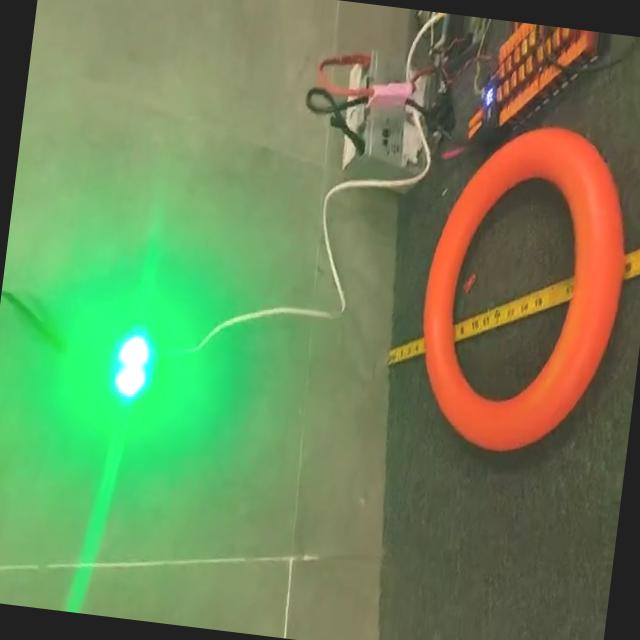note: (408, 112, 638, 464)
